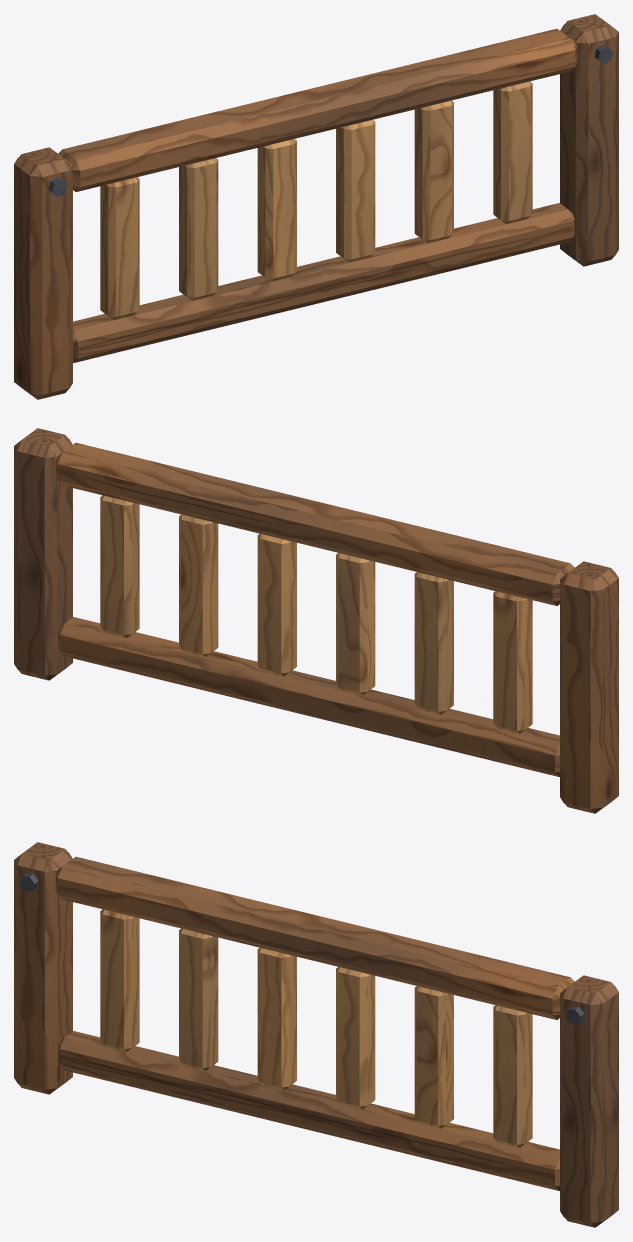
The model's file is parmaklik.glb.
3 renders of one model, top to bottom at view 1: azimuth 30°, elevation 25°; view 2: azimuth 150°, elevation 25°; view 3: azimuth 330°, elevation 25°, orthographic.
Visible parts, largest first — view 1: parmaklik; view 2: parmaklik; view 3: parmaklik.
Part boxes in pixels (x1=…): parmaklik: x1=14, y1=14, x2=618, y2=399; parmaklik: x1=14, y1=428, x2=618, y2=813; parmaklik: x1=14, y1=842, x2=618, y2=1227.
Bounding box in the file's own units: 3 × 1.14 × 0.255.
1 material, 1 textured.
